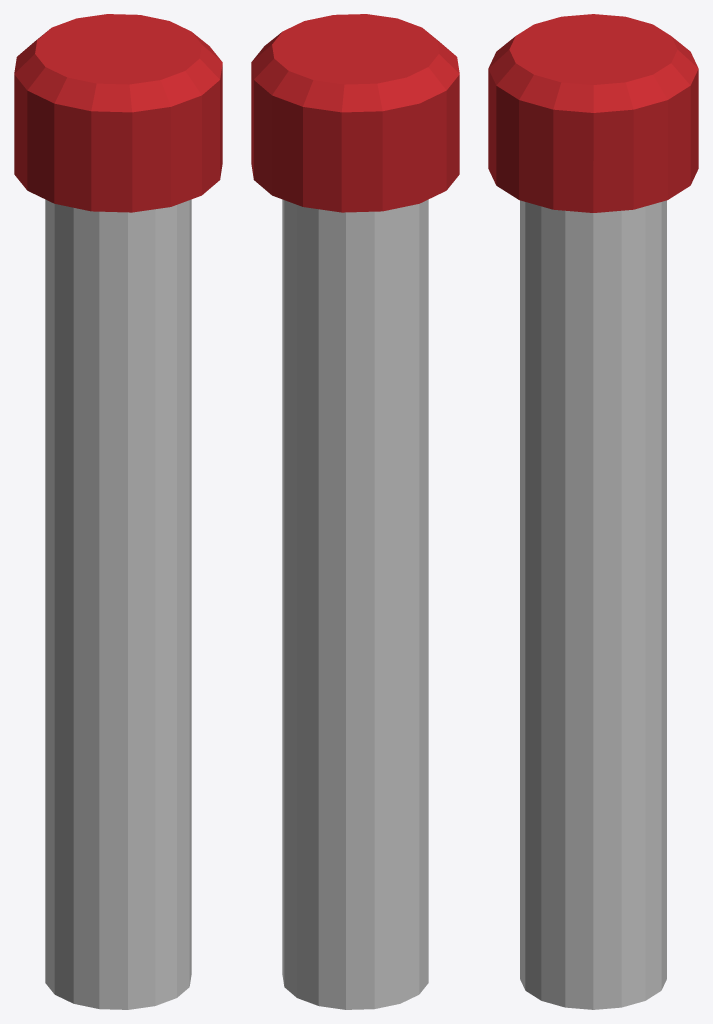
The model's file is Plunger.fbx.
3 renders of one model, left to right at view 1: azimuth 30°, elevation 25°; view 2: azimuth 150°, elevation 25°; view 3: azimuth 270°, elevation 25°, orthographic.
Parts seen in each view (by area): view 1: Plunger; view 2: Plunger; view 3: Plunger.
Boxes of the visible parts, box(x1,y1,x2,y2) form: Plunger: box(14, 14, 222, 1009); Plunger: box(251, 14, 459, 1009); Plunger: box(488, 14, 698, 1009).
Size of the model in its own units: 0.0008 by 0.0039 by 0.0008.
